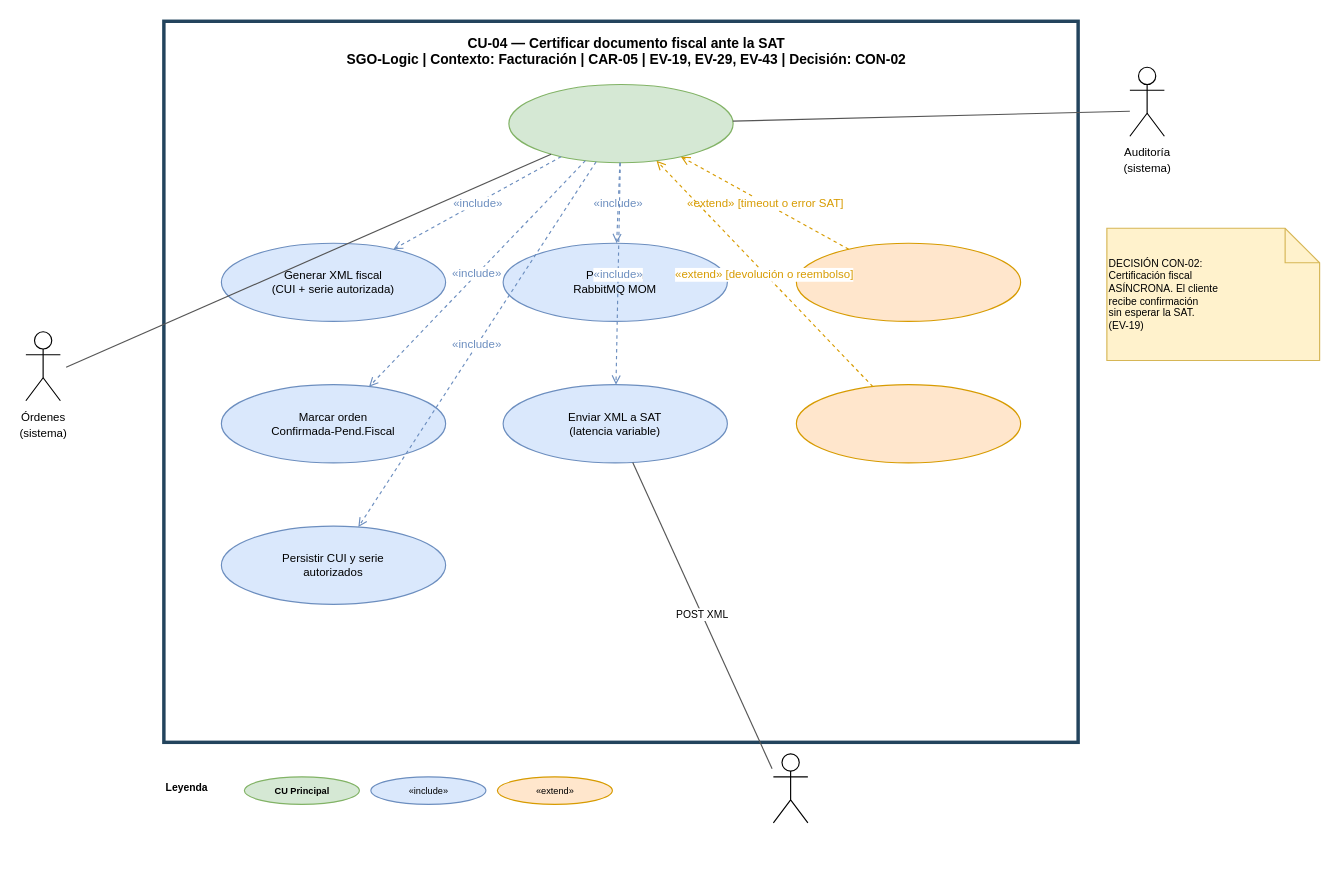
Some shapes in this 1340 by 884 pixel diagram are drawn without their labels. Each missing label, with the box of its shape:
Certificar documento fiscal ante la SAT: (508, 83, 733, 163)
Generar doc. fiscal de devolución: (795, 384, 1021, 463)
Reintentar con back-off exponencial: (795, 242, 1021, 321)
SAT (AS-06): (772, 753, 808, 823)
